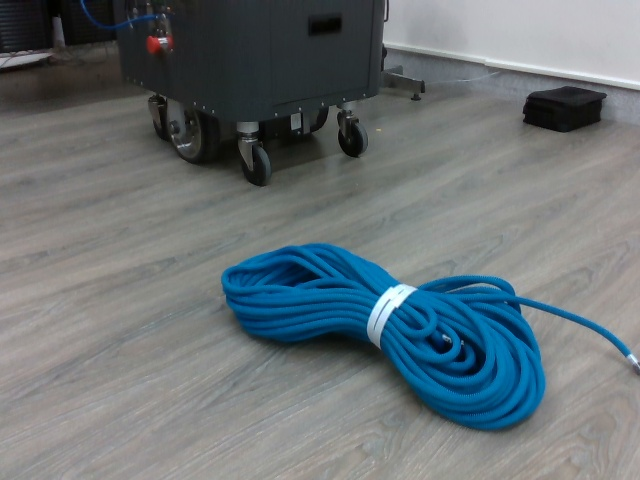rope: (219, 237, 551, 438)
